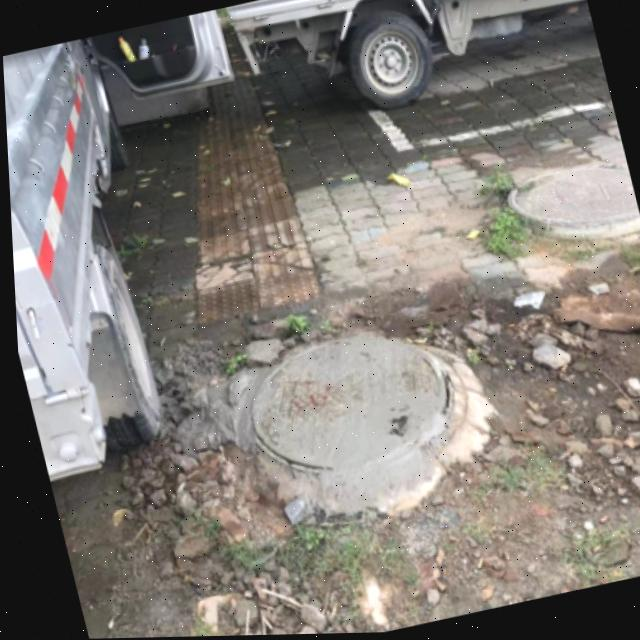manhole: (208, 298, 487, 514)
